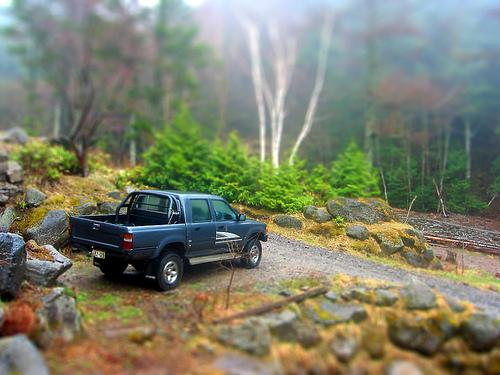truck: (68, 189, 268, 291)
